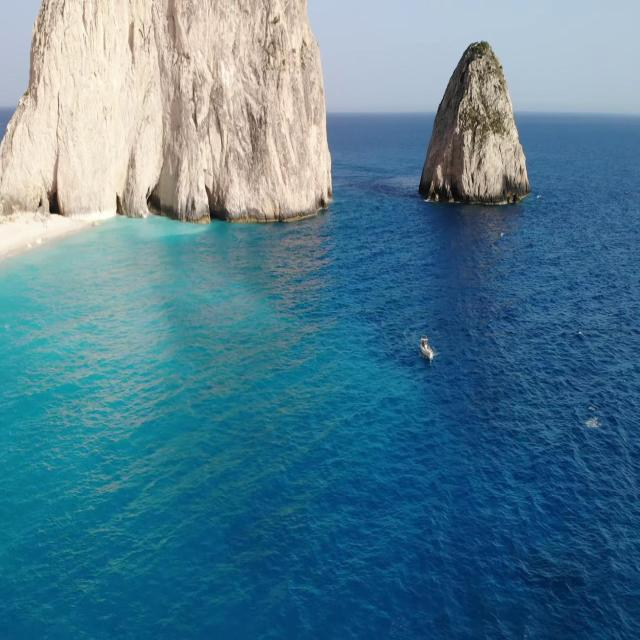boat: (418, 337, 436, 366)
